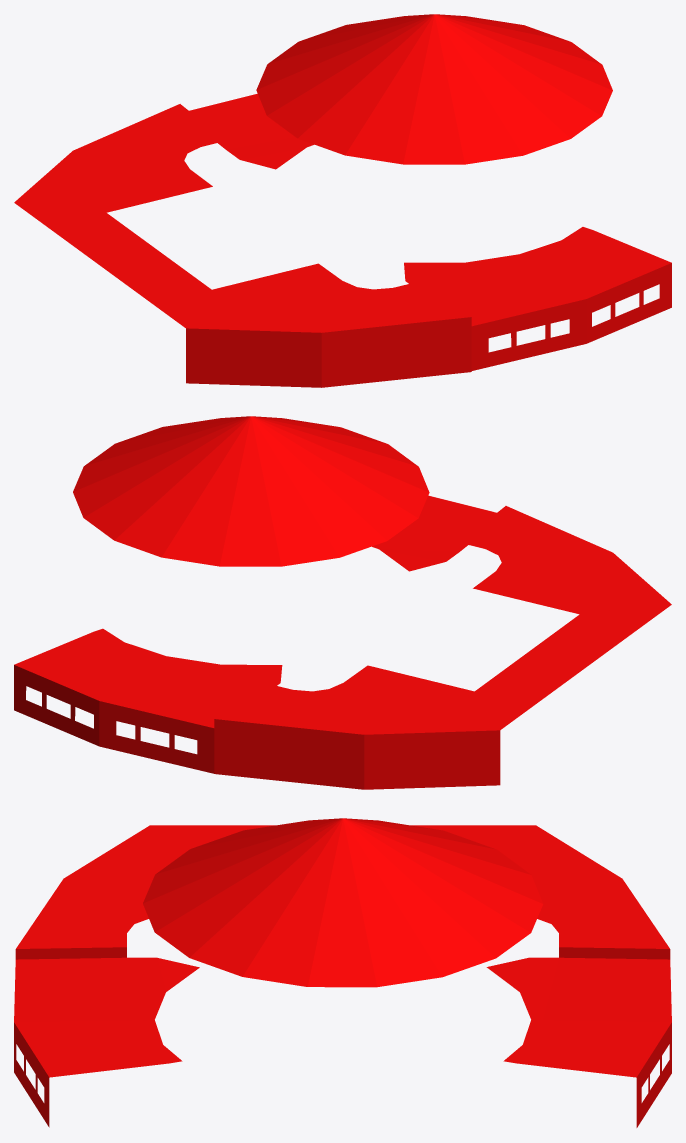
File: shadow-mask.gltf
3 views of the same model, one above another, from view 1: azimuth 30°, elevation 25°; view 2: azimuth 150°, elevation 25°; view 3: azimuth 270°, elevation 25° (orthographic). The views are drawn at different scales.
Visible parts, largest first — view 1: Box133; view 2: Box133; view 3: Box133.
Boxes of the visible parts, x1,y1,x2,y2 form: Box133: (14, 14, 671, 387); Box133: (14, 416, 671, 789); Box133: (14, 818, 671, 1127).
Size of the model in its own units: 34.61 by 15.25 by 36.05.
